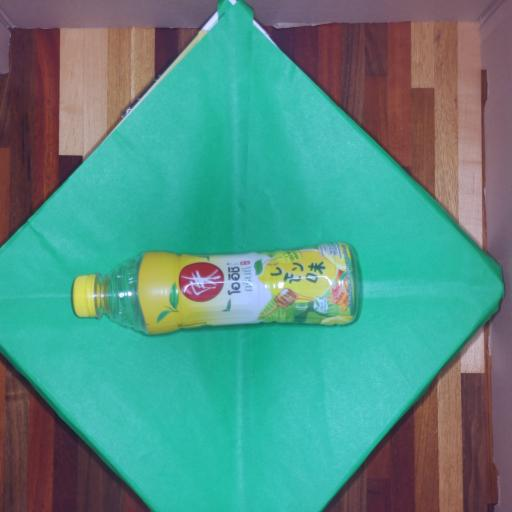bottle: (44, 223, 381, 350)
